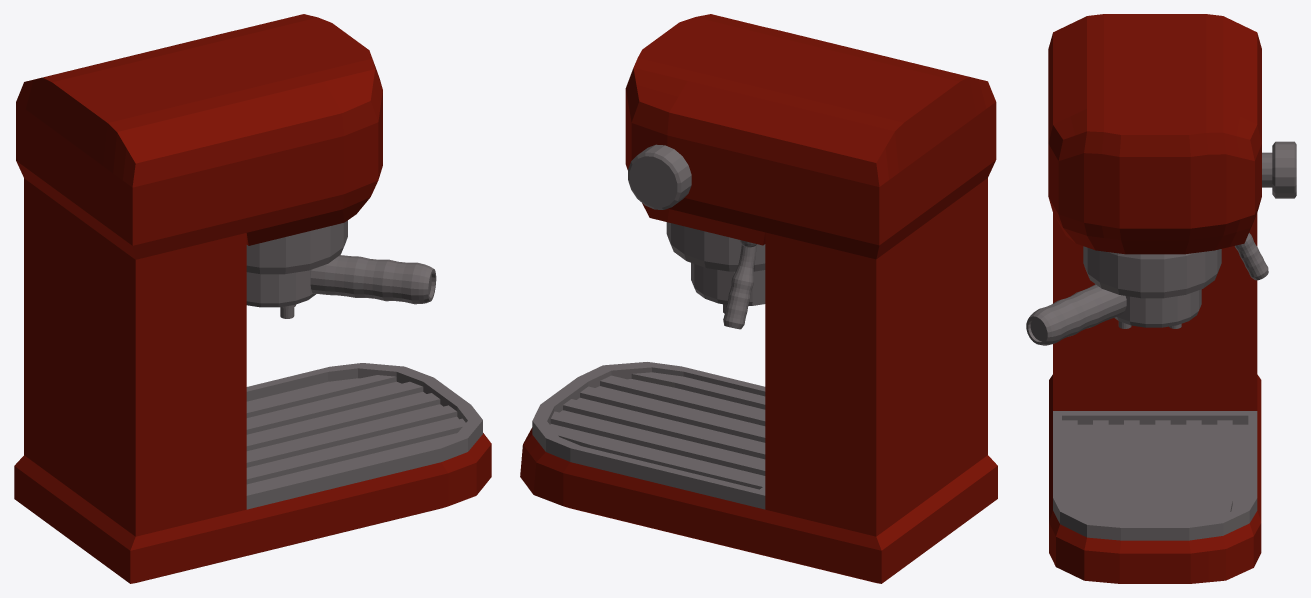
The model's file is cofe_mashina.fbx.
3 renders of one model, left to right at view 1: azimuth 30°, elevation 25°; view 2: azimuth 150°, elevation 25°; view 3: azimuth 270°, elevation 25°, orthographic. The views are drawn at different scales.
Visible parts, largest first — view 1: cofe mashina, cofe masxhina 2; view 2: cofe mashina, cofe masxhina 2; view 3: cofe mashina, cofe masxhina 2.
Boxes of the visible parts, x1,y1,x2,y2 form: cofe mashina: [14, 14, 491, 583]; cofe masxhina 2: [246, 220, 436, 318]; cofe mashina: [520, 14, 997, 583]; cofe masxhina 2: [628, 144, 765, 329]; cofe mashina: [1048, 14, 1261, 583]; cofe masxhina 2: [1026, 141, 1296, 345].
Bounding box in the file's own units: 13.52 × 14.64 × 8.92.
